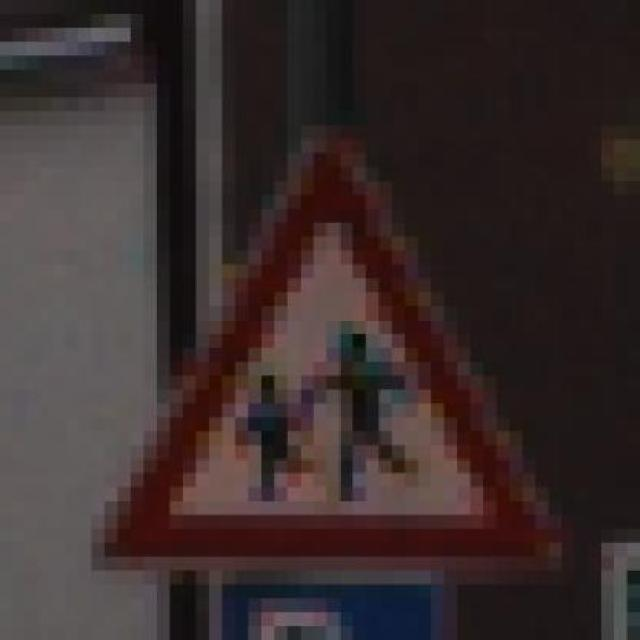Beware of children: (79, 124, 562, 598)
